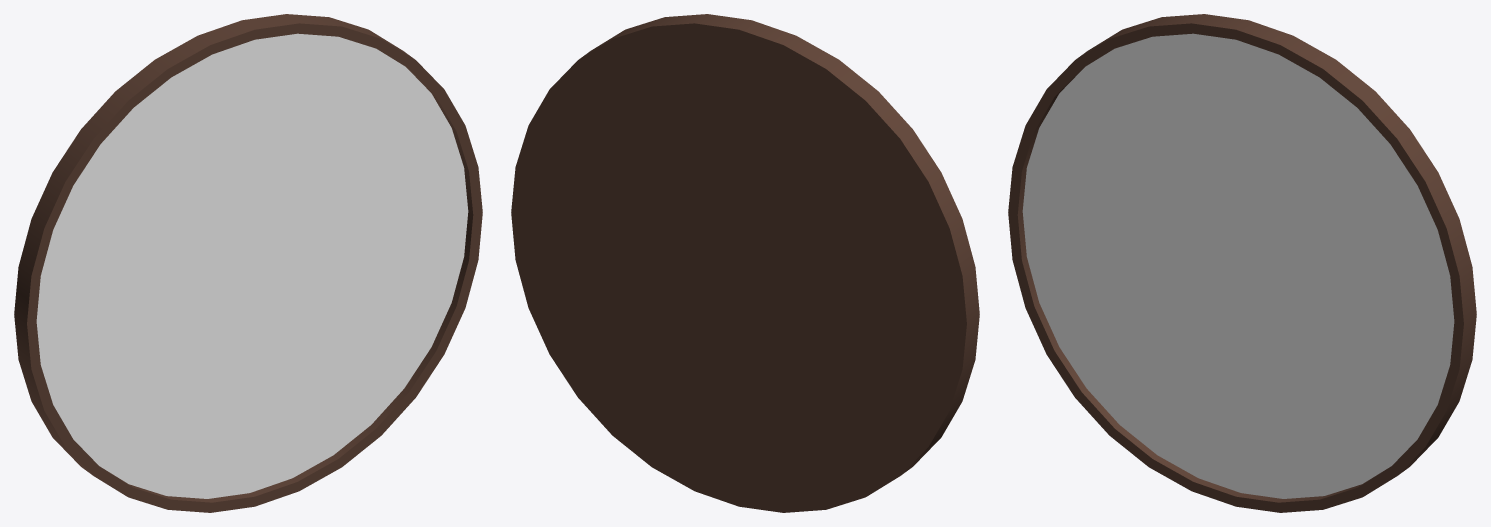
Rendered from RoundMirror.glb.
3 renders of one model, left to right at view 1: azimuth 30°, elevation 25°; view 2: azimuth 150°, elevation 25°; view 3: azimuth 330°, elevation 25°, orthographic.
Visible parts, largest first — view 1: Round Mirror; view 2: Round Mirror; view 3: Round Mirror.
Boxes of the visible parts, bbox=[...] form: Round Mirror: bbox=[14, 14, 482, 512]; Round Mirror: bbox=[511, 14, 979, 512]; Round Mirror: bbox=[1008, 14, 1476, 512].
Size of the model in its own units: 0.9879 by 0.9879 by 0.0483.
